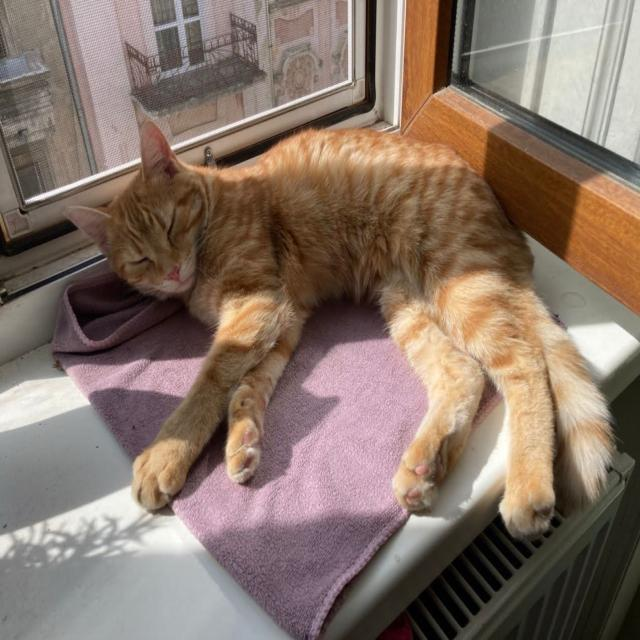red_cat: (65, 121, 614, 534)
